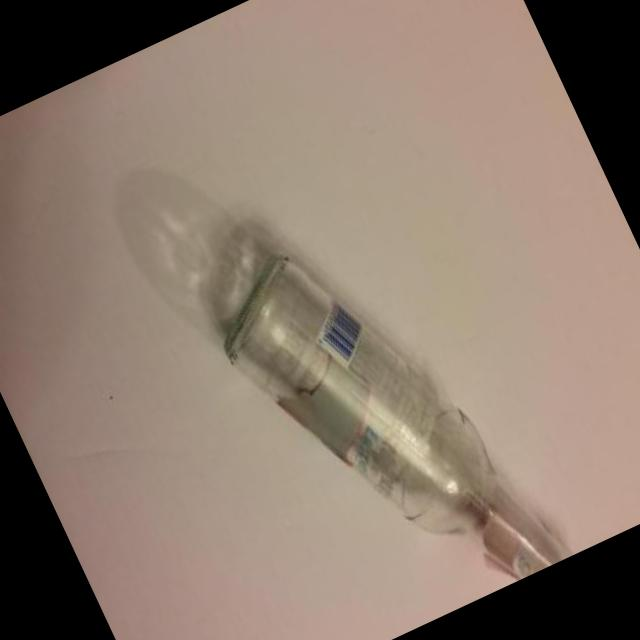BotolKaca: (95, 63, 580, 640)
